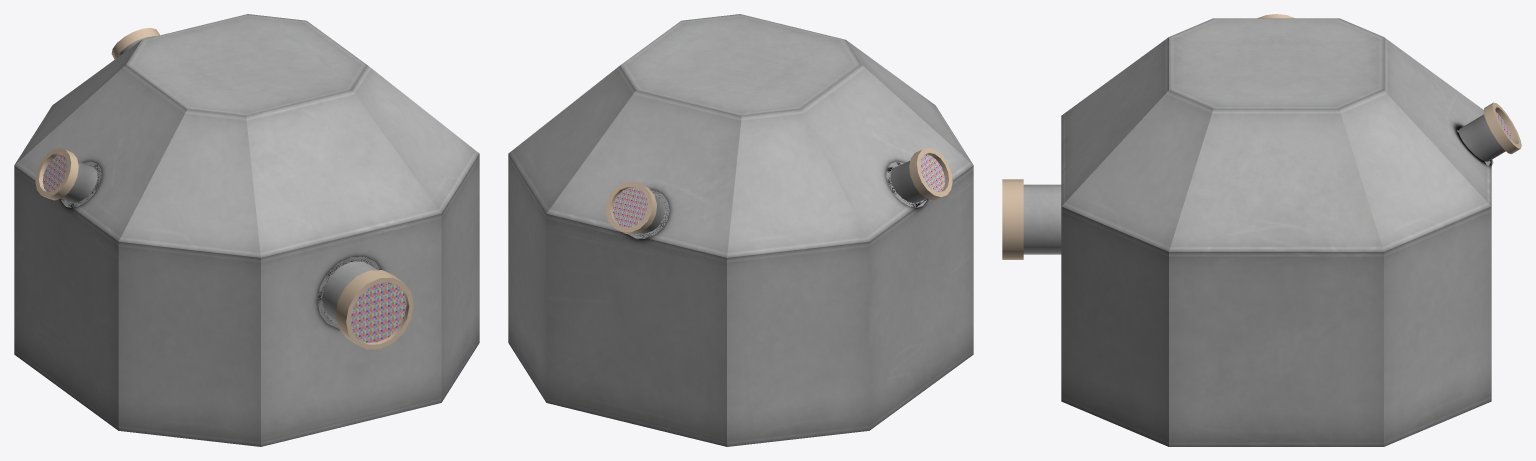
The model's file is interior.obj.
The picture shows the model from 3 angles, left to right: view 1: azimuth 30°, elevation 25°; view 2: azimuth 150°, elevation 25°; view 3: azimuth 270°, elevation 25°; orthographic projection. The views are drawn at different scales.
Visible parts, largest first — view 1: 1, mask, windows; view 2: 1, mask, windows; view 3: 1, mask.
Boxes of the visible parts, left/top/right/bottom form: 1: left=14, top=14, right=479, bottom=446; mask: left=35, top=27, right=413, bottom=349; windows: left=42, top=154, right=406, bottom=342; 1: left=508, top=14, right=973, bottom=446; mask: left=605, top=147, right=952, bottom=234; windows: left=612, top=154, right=945, bottom=227; 1: left=1023, top=18, right=1505, bottom=446; mask: left=1002, top=14, right=1521, bottom=259.
Bounding box in the file's own units: 1.07 × 0.75 × 1.21.
3 materials, 2 textured.
